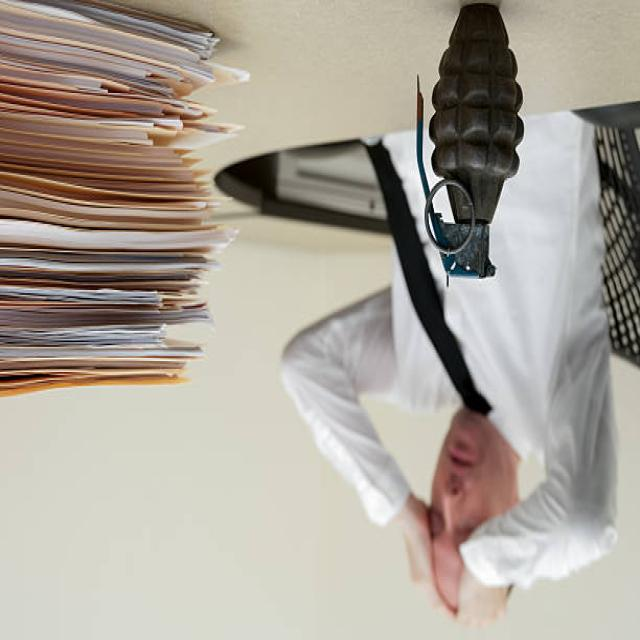grenade: (413, 1, 531, 294)
